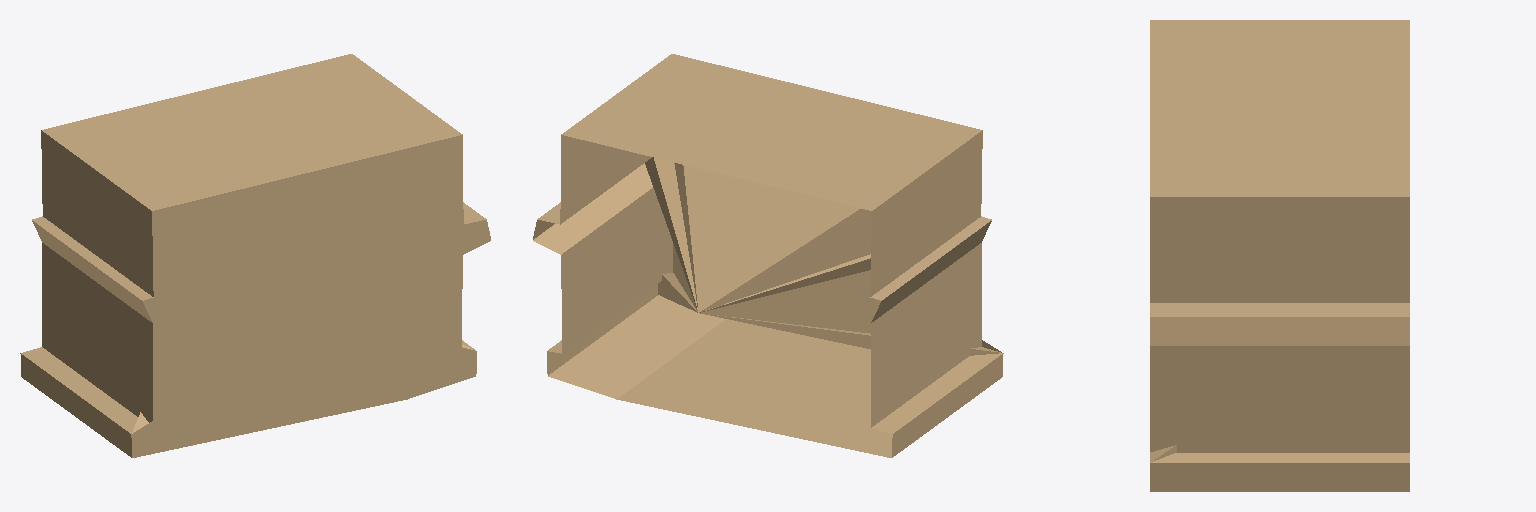
URDF robot description (bread):
<?xml version="1.0"?>
<robot name="bread">
  <link name="base_link">
    <inertial>
      <origin xyz="0 0 0" rpy="0 0 0"/>
      <mass value="0.240000"/>
      <inertia
        ixx="0.00032800" ixy="0.0" ixz="0.0"
        iyy="0.00065000" iyz="0.0"
        izz="0.00057800"/>
    </inertial>
    <visual>
      <origin xyz="0 0 0" rpy="0 0 0"/>
      <geometry>
        <mesh filename="bread_extruded.obj" scale="1.0 1.0 1.0"/>
      </geometry>
      <material name="bread_mat">
        <color rgba="0.82 0.71 0.55 1.0"/>
      </material>
    </visual>
    <collision>
      <origin xyz="0 0 0" rpy="0 0 0"/>
      <geometry>
        <mesh filename="bread_extruded.obj" scale="1.0 1.0 1.0"/>
      </geometry>
    </collision>
  </link>
</robot>

--- What the picture shows (computed from the rendered views, not written in the file) ---
Views: 3 orthographic renders of the robot side by side, from view 1: azimuth 30°, elevation 25°; view 2: azimuth 150°, elevation 25°; view 3: azimuth 270°, elevation 25°.
Model bread with 1 links and 0 joints (none), rooted at base_link, posed every joint at zero.
Links seen in each view (by area): view 1: base_link; view 2: base_link; view 3: base_link.
Boxes of the visible links, bbox=[...] form: base_link: bbox=[20, 54, 490, 457]; base_link: bbox=[533, 54, 1003, 457]; base_link: bbox=[1150, 20, 1409, 491].
Bounding box of the posed robot: 0.15 × 0.08 × 0.1 m (x, y, z).
Meshes: 1 distinct files referenced, 1 mesh visuals loaded (1 OBJ).
